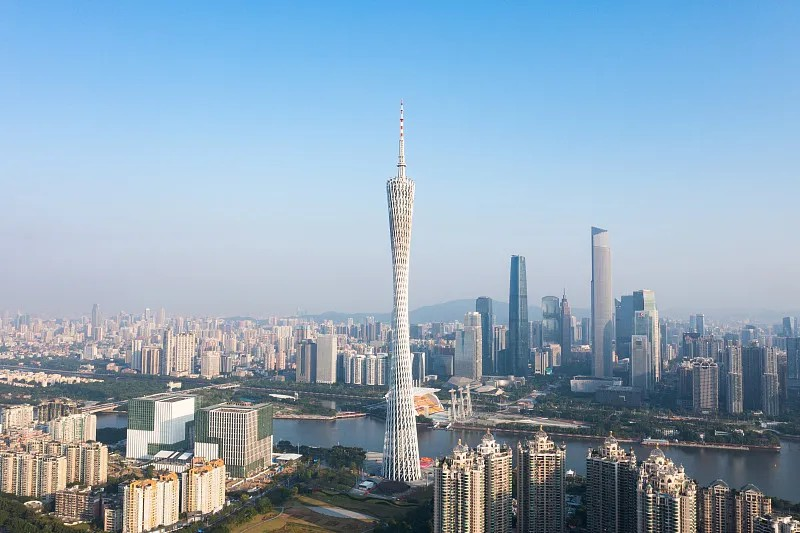Canton: (383, 101, 421, 479)
